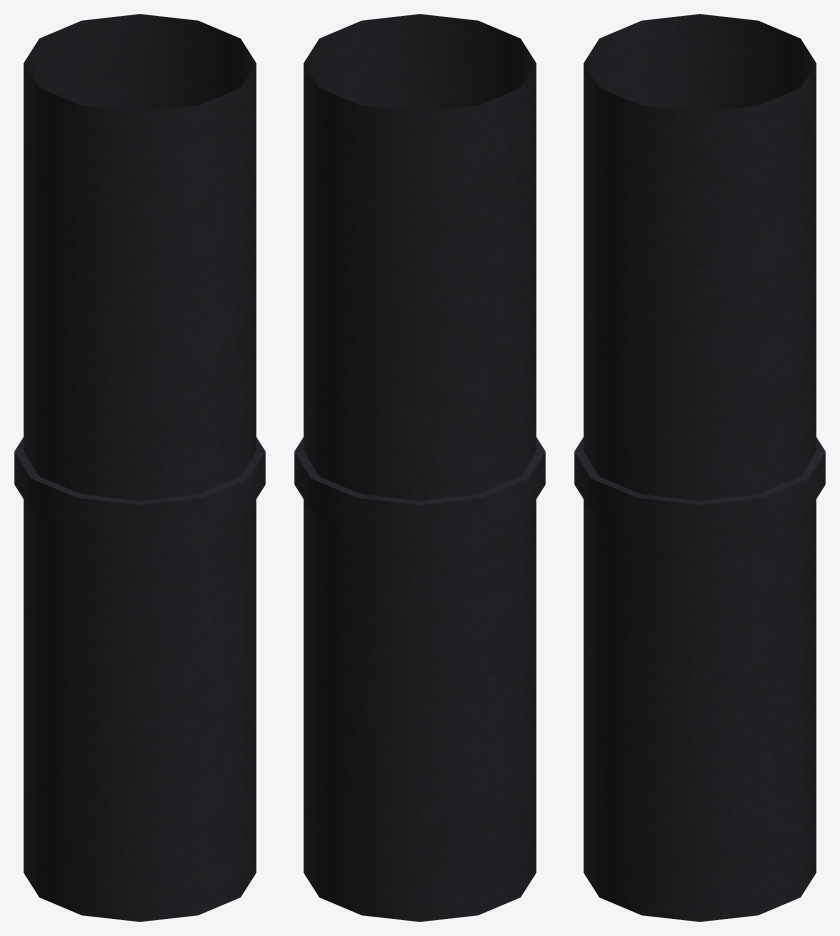
File: putki.FBX
3 views of the same model, side by side, from view 1: azimuth 30°, elevation 25°; view 2: azimuth 150°, elevation 25°; view 3: azimuth 270°, elevation 25° (orthographic).
Visible parts, largest first — view 1: Cylinder003; view 2: Cylinder003; view 3: Cylinder003.
Part boxes in pixels (box(x1,y1,x2,y2)): Cylinder003: box(14, 14, 265, 921); Cylinder003: box(294, 14, 545, 921); Cylinder003: box(574, 14, 825, 921).
Size of the model in its own units: 1.32 by 4.7 by 1.32.
Materials: 1 (1 with a texture image).
